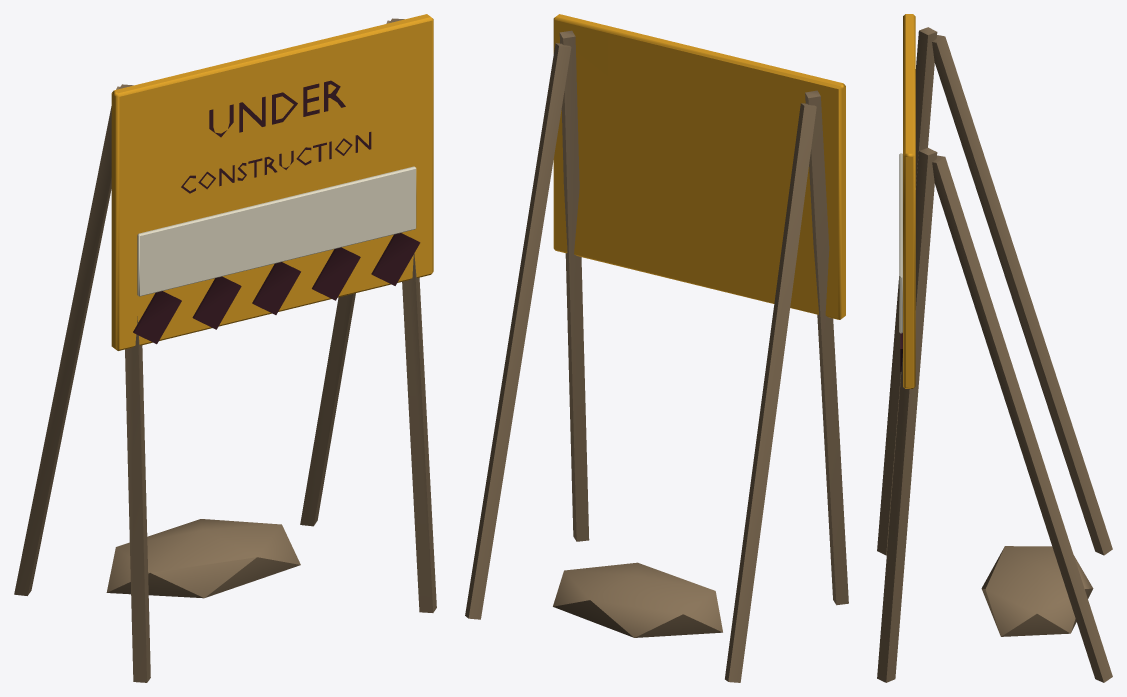
Rendered from sign_construction.glb.
3 views of the same model, side by side, from view 1: azimuth 30°, elevation 25°; view 2: azimuth 150°, elevation 25°; view 3: azimuth 270°, elevation 25° (orthographic). The views are drawn at different scales.
Visible parts, largest first — view 1: sign_construction, plate; view 2: sign_construction; view 3: sign_construction, plate.
Boxes of the visible parts, <box> form: sign_construction: <box>14,14,436,682</box>; plate: <box>137,166,416,296</box>; sign_construction: <box>465,14,848,682</box>; sign_construction: <box>877,14,1112,682</box>; plate: <box>899,153,902,333</box>.
Bounding box in the file's own units: 0.8 × 1.4 × 0.563.
